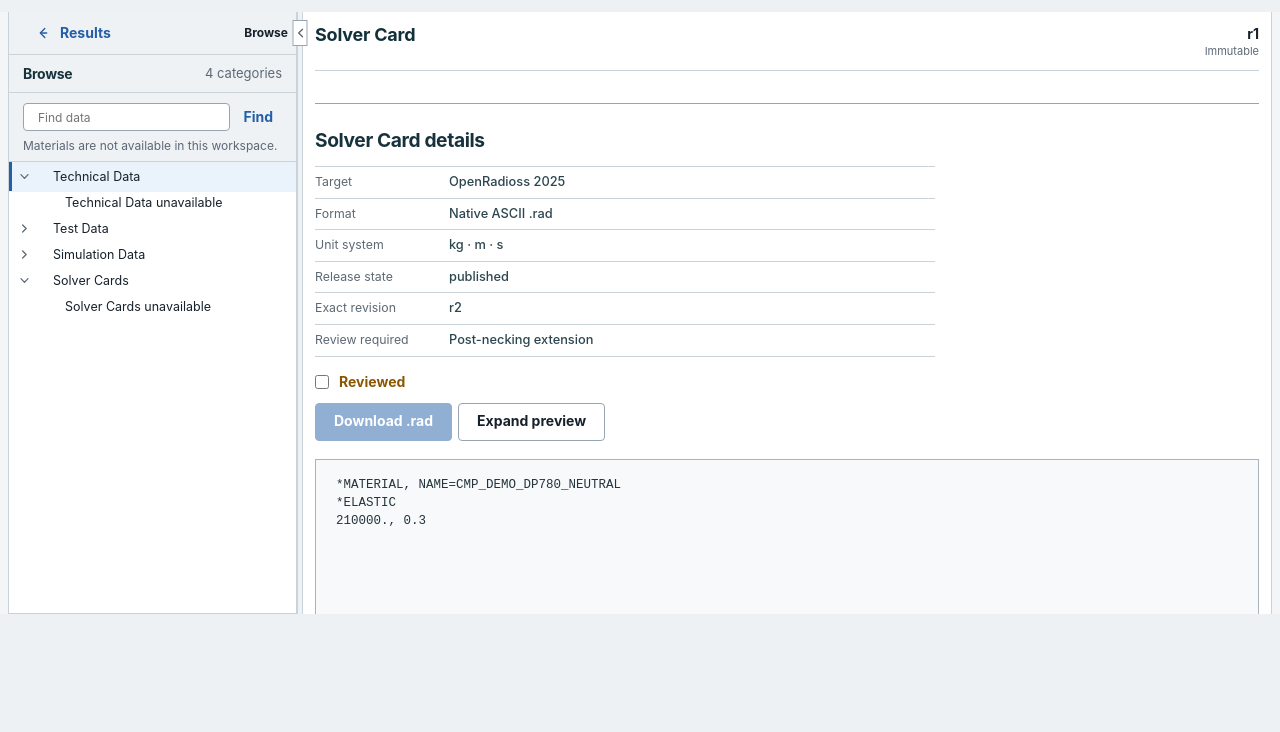
ExactRecordDatasheetPage › shows exact Solver Card target, release, actions, and source evidence
expect the heading "Solver Card" is shown: met, box [315, 24, 415, 46]
expect the heading "Solver Card details" is shown: met, box [315, 128, 485, 152]
Click the checkbox labelled "Reviewed" at (322, 382), box [315, 374, 329, 388]
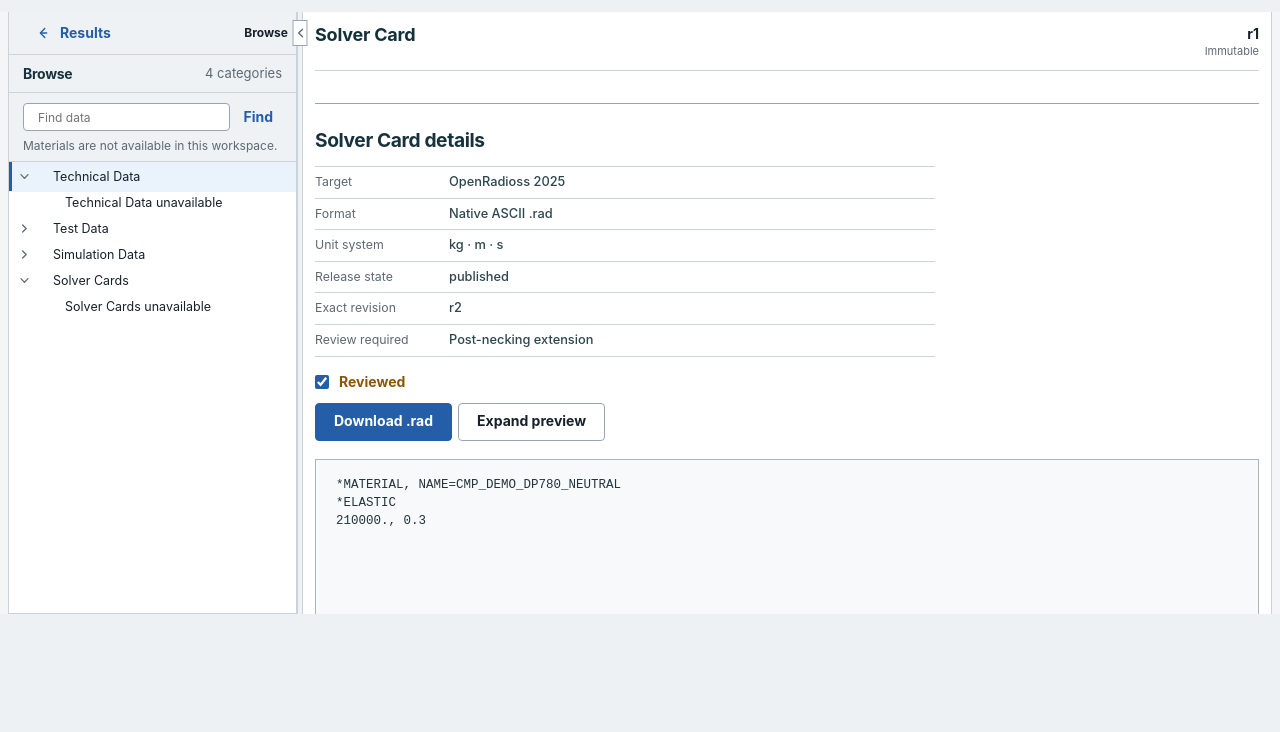
expect the button "Download .rad" is enabled: met, box [315, 402, 452, 440]
Click the button "Expand preview" at (532, 422), box [458, 402, 605, 440]
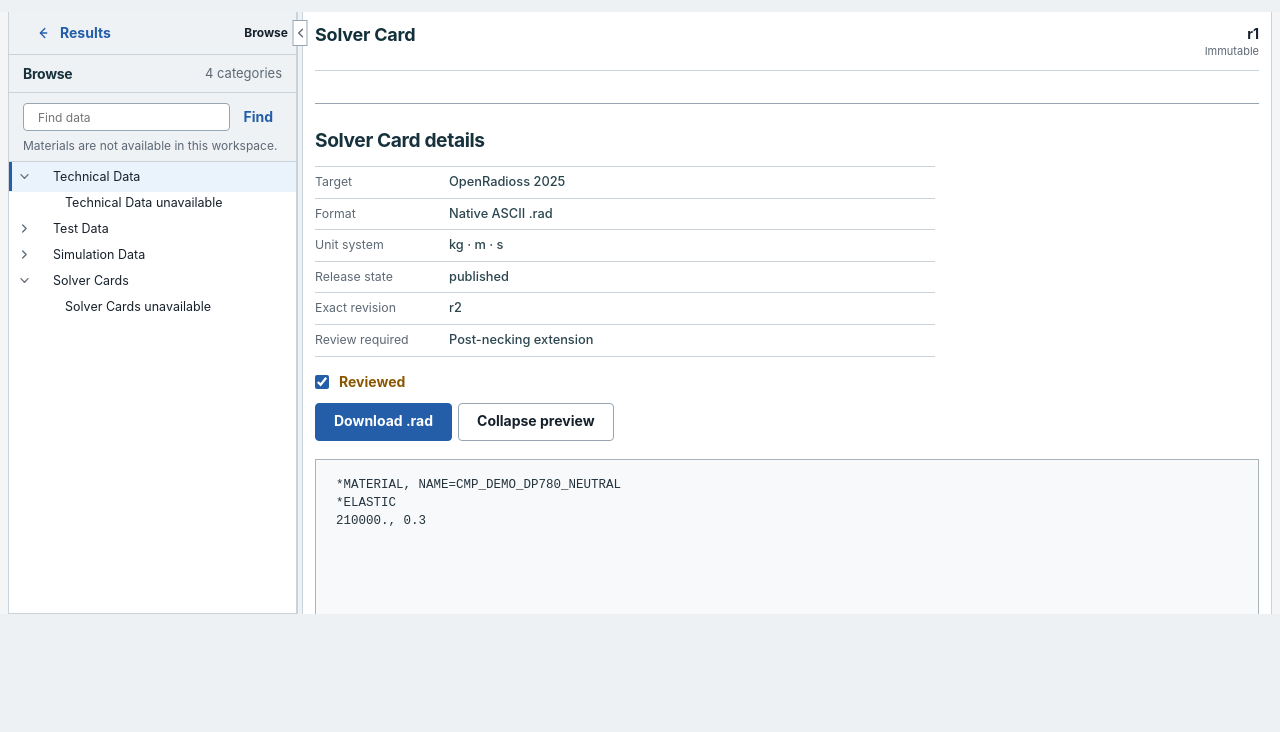
expect the button "Collapse preview" is expanded: met
Click the button "Collapse preview" at (536, 422), box [458, 402, 614, 440]
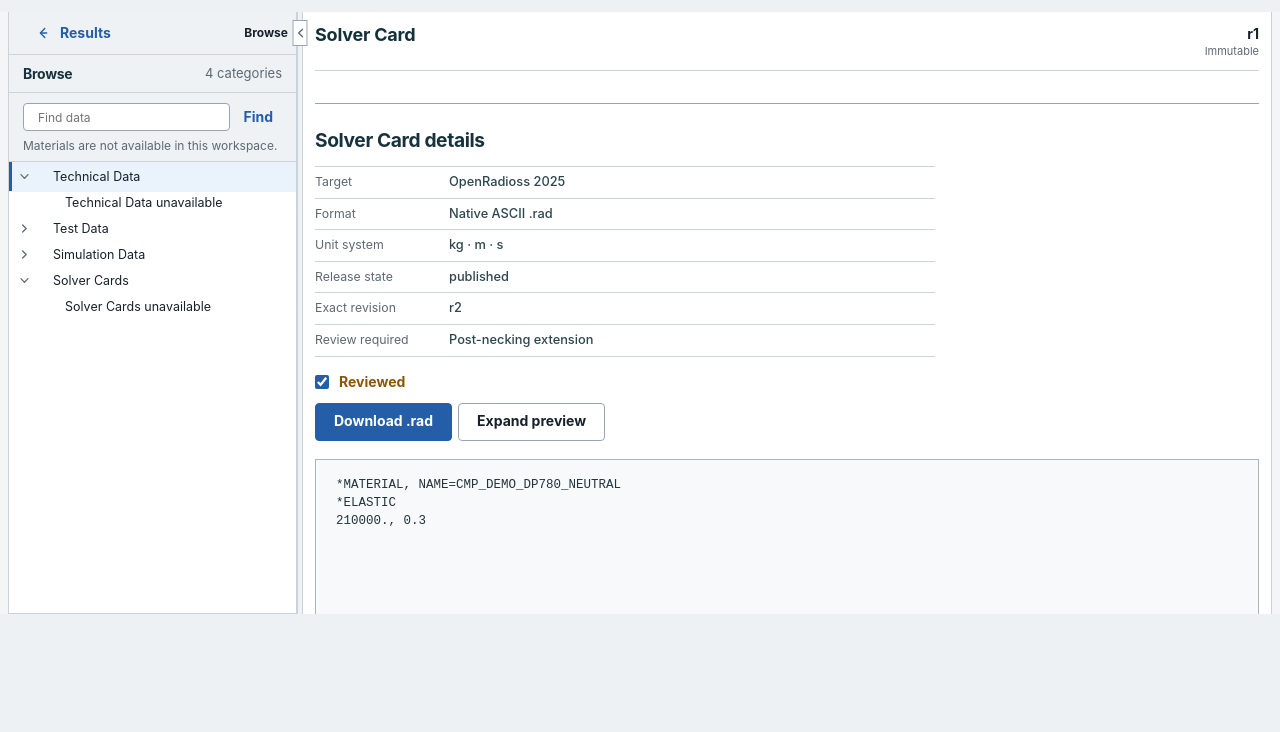
expect the button "Expand preview" is collapsed: met, box [458, 402, 605, 440]
